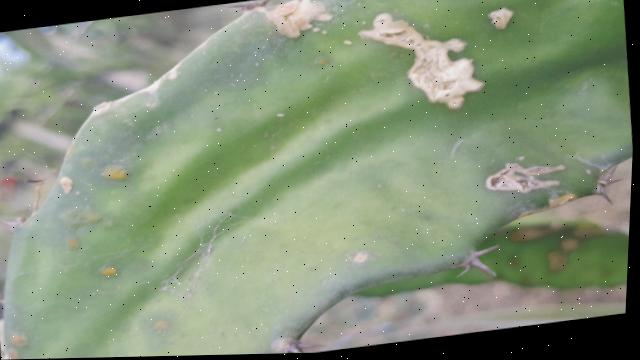stemcanker: (100, 161, 135, 185), (150, 313, 177, 336), (97, 261, 125, 283), (70, 209, 97, 230), (61, 236, 90, 255), (5, 332, 31, 353)
